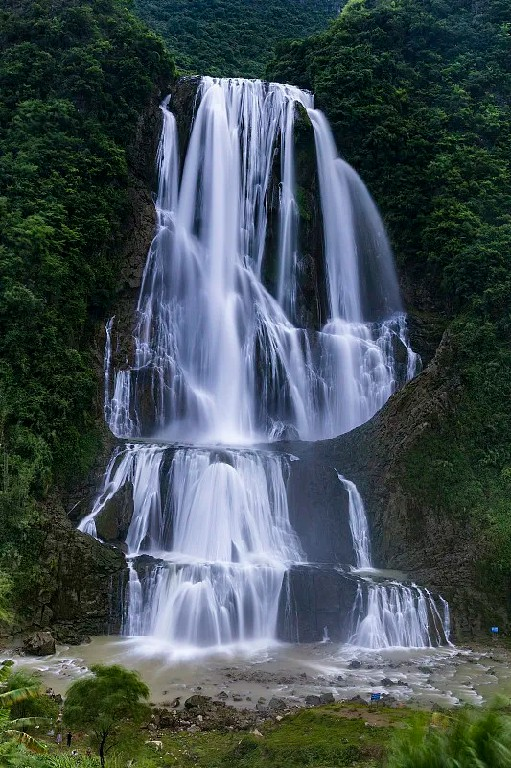Huangguoshu: (104, 77, 451, 648)
